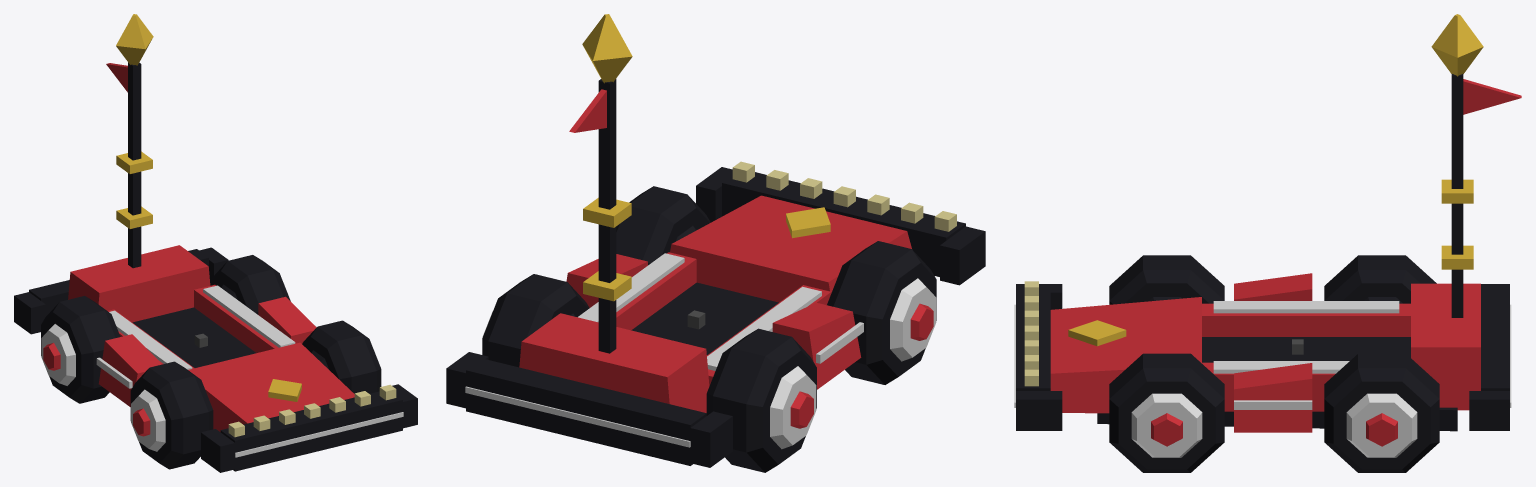
Rendered from kart-funfair.glb.
3 views of the same model, side by side, from view 1: azimuth 30°, elevation 25°; view 2: azimuth 150°, elevation 25°; view 3: azimuth 270°, elevation 25° (orthographic). The views are drawn at different scales.
Visible parts, largest first — view 1: kart-funfair, wheel-front-right, wheel-back-right, wheel-front-left, wheel-back-left; view 2: kart-funfair, wheel-back-right, wheel-front-right, wheel-back-left, wheel-front-left; view 3: kart-funfair, wheel-front-left, wheel-back-left, wheel-front-right, wheel-back-right.
Part boxes in pixels (left/top/right/bottom): kart-funfair: left=14, top=14, right=417, bottom=472; wheel-front-right: left=130, top=361, right=213, bottom=469; wheel-back-right: left=41, top=296, right=120, bottom=403; wheel-front-left: left=302, top=320, right=381, bottom=393; wheel-back-left: left=210, top=255, right=290, bottom=314; kart-funfair: left=446, top=14, right=985, bottom=467; wheel-back-right: left=706, top=328, right=816, bottom=472; wheel-front-right: left=827, top=241, right=936, bottom=384; wheel-back-left: left=482, top=274, right=589, bottom=367; wheel-front-left: left=616, top=186, right=710, bottom=265; kart-funfair: left=1014, top=14, right=1521, bottom=432; wheel-front-left: left=1109, top=353, right=1224, bottom=472; wheel-back-left: left=1324, top=353, right=1439, bottom=472; wheel-front-right: left=1109, top=255, right=1224, bottom=304; wheel-back-right: left=1324, top=255, right=1436, bottom=303.
Size of the model in its own units: 1.12 by 1.52 by 1.74.
